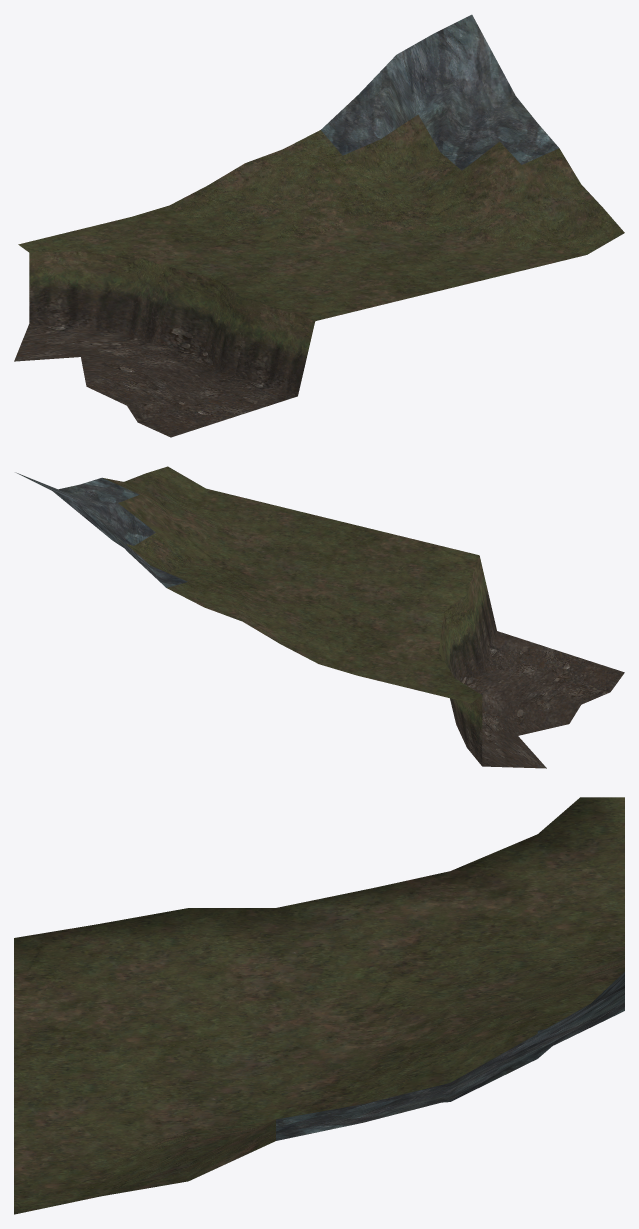
The model's file is terrain_base04.fbx.
The picture shows the model from 3 angles, top to bottom: view 1: azimuth 30°, elevation 25°; view 2: azimuth 150°, elevation 25°; view 3: azimuth 270°, elevation 25°; orthographic projection. The views are drawn at different scales.
Parts seen in each view (by area): view 1: terrain_base04-0; view 2: terrain_base04-0; view 3: terrain_base04-0.
Boxes of the visible parts, x1,y1,x2,y2 form: terrain_base04-0: (14,14,624,437); terrain_base04-0: (15,466,624,768); terrain_base04-0: (14,797,624,1214).
Size of the model in its own units: 32.64 by 12.66 by 17.5.
